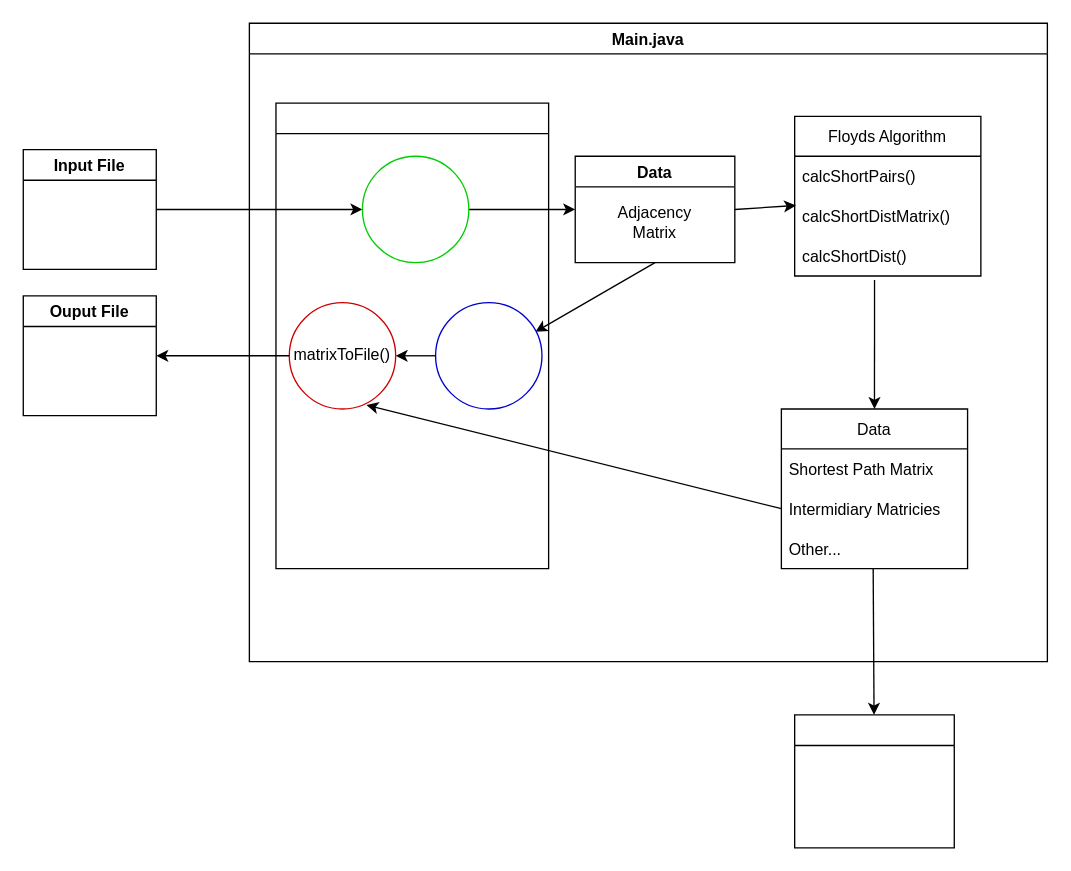
The diagram is 1071 pixels wide and 871 high, and some of its shapes have lost their labels. Here are the shapes that lost their labels. From the top down, the box of each, then its label:
(361, 155, 469, 263): fileToMatrix()
(275, 102, 549, 569): Reader Writer
(434, 301, 542, 409): Clean Data()
(793, 714, 954, 848): Console
